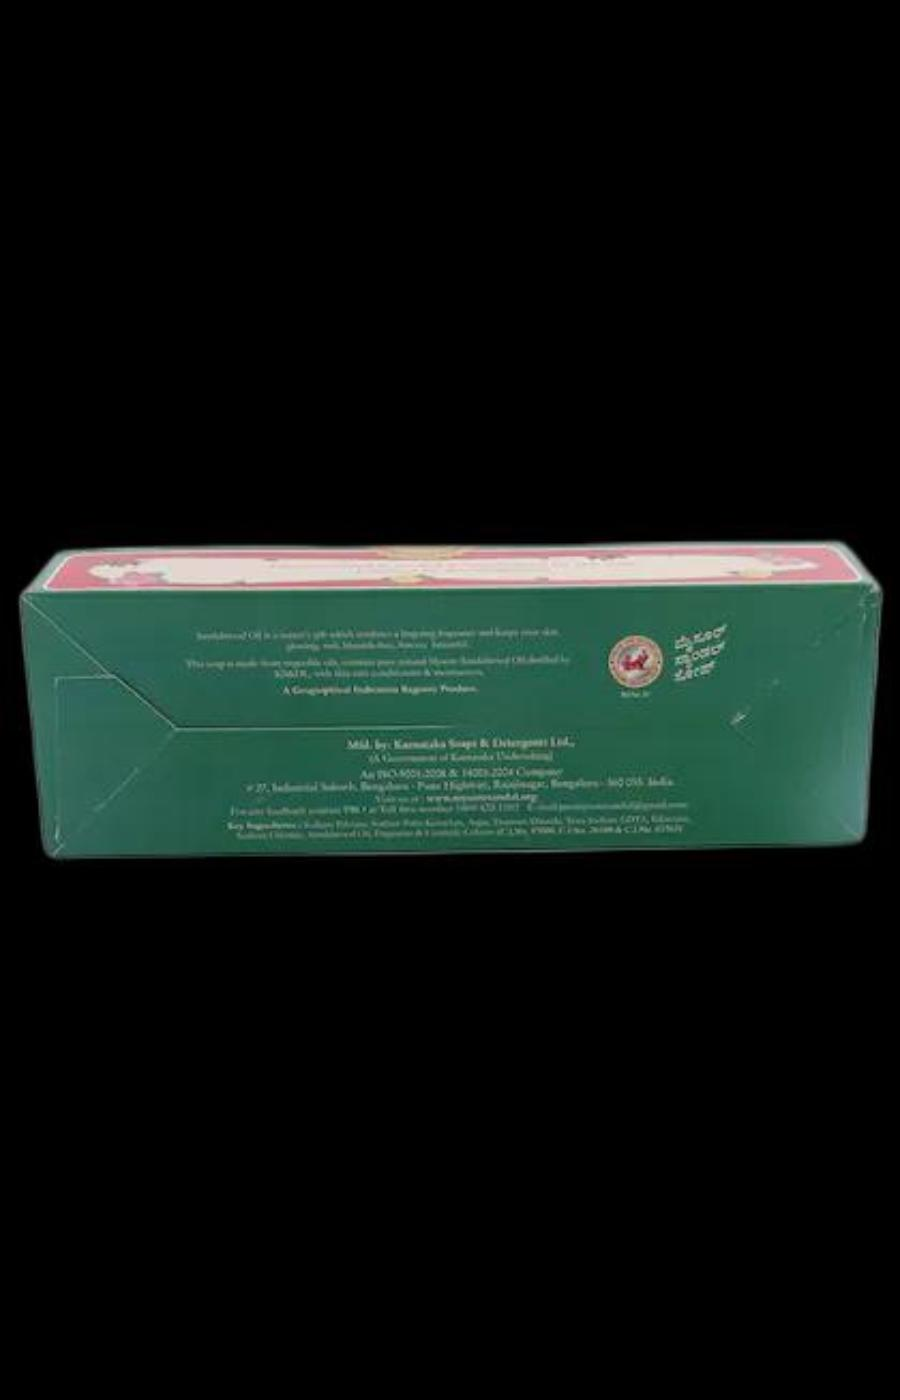Mysore Sandal Soap 150 g -Pack of 3-: (18, 547, 886, 848)
